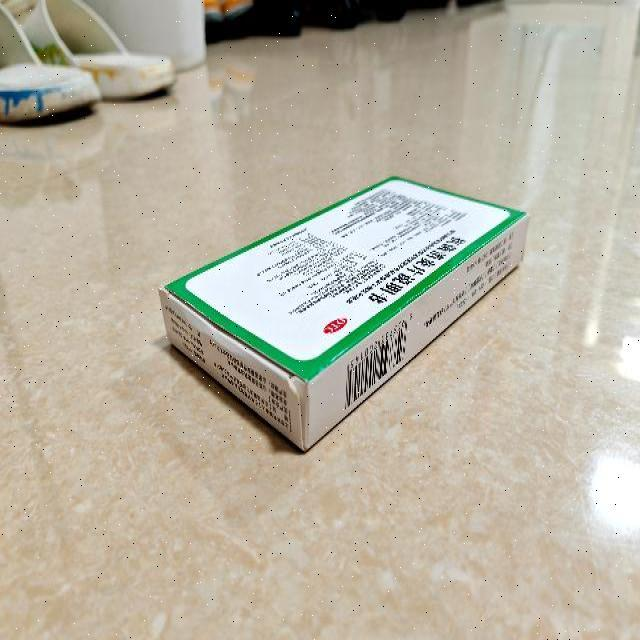box: (158, 175, 530, 454)
